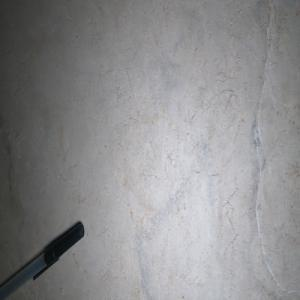Pen: (0, 222, 84, 300)
